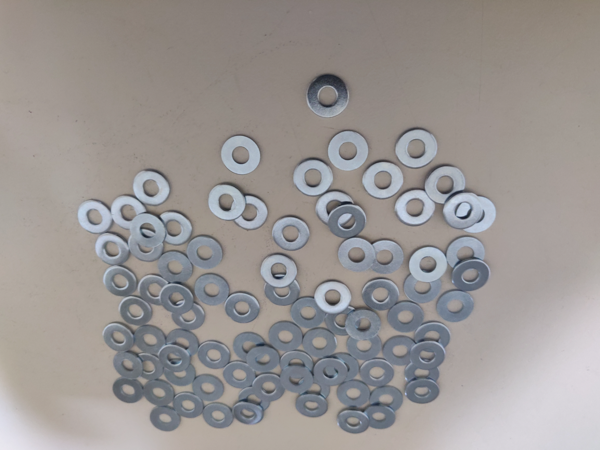circle: (307, 75, 349, 118), (220, 134, 262, 176), (328, 129, 369, 171), (424, 165, 466, 205), (396, 129, 437, 168), (362, 162, 404, 200), (315, 190, 356, 228), (456, 196, 496, 234), (396, 189, 435, 227), (367, 238, 405, 275), (294, 160, 333, 196), (446, 236, 485, 272), (271, 216, 311, 251), (208, 184, 245, 221), (231, 194, 268, 231), (133, 170, 171, 206), (410, 247, 448, 283), (261, 253, 298, 289), (443, 193, 480, 229), (339, 237, 376, 273), (314, 280, 352, 315), (328, 205, 366, 239), (452, 259, 490, 293), (404, 270, 442, 304), (361, 278, 399, 312), (437, 289, 475, 323), (131, 213, 166, 248), (77, 200, 113, 234), (129, 229, 165, 263), (156, 213, 193, 246), (265, 273, 300, 307), (187, 236, 223, 269), (324, 303, 360, 336), (414, 320, 450, 353), (96, 232, 130, 266), (291, 297, 327, 329), (268, 320, 304, 352), (404, 359, 442, 389), (112, 196, 145, 230), (388, 302, 424, 333), (409, 340, 446, 370), (323, 352, 360, 382), (195, 274, 229, 306), (158, 251, 192, 283), (171, 299, 205, 331), (104, 266, 139, 297), (225, 293, 261, 323), (119, 296, 154, 326), (302, 329, 337, 359), (346, 332, 382, 361), (139, 274, 172, 305), (102, 322, 135, 353), (346, 310, 380, 340), (232, 332, 266, 362), (280, 351, 315, 380), (313, 358, 348, 387), (383, 337, 418, 366), (245, 345, 281, 373), (158, 344, 191, 374), (223, 361, 256, 391), (160, 285, 194, 314), (251, 372, 285, 401), (238, 386, 273, 414), (360, 359, 395, 387), (134, 325, 166, 355), (279, 366, 314, 393), (113, 351, 145, 380), (131, 354, 164, 382), (192, 374, 225, 402), (337, 380, 370, 408), (298, 375, 331, 403), (198, 342, 231, 370), (168, 329, 199, 358), (112, 377, 145, 404), (149, 406, 182, 433), (370, 386, 403, 413), (164, 360, 196, 387), (337, 409, 370, 435), (405, 379, 439, 404), (364, 405, 397, 430), (296, 394, 329, 419), (143, 380, 174, 406), (173, 393, 204, 419), (202, 403, 233, 429), (233, 400, 265, 425)
